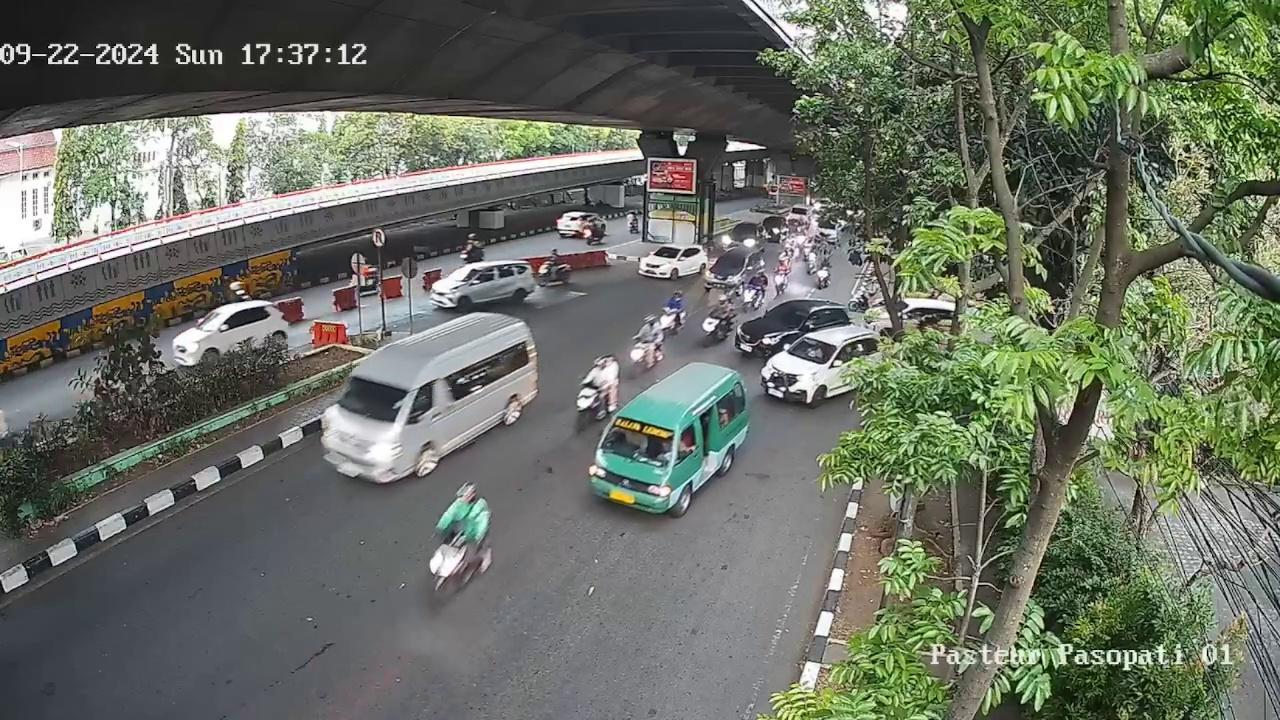tidak-pakai: (616, 424, 645, 452)
windshield: (603, 417, 671, 464), (336, 377, 405, 422), (788, 337, 835, 363)
